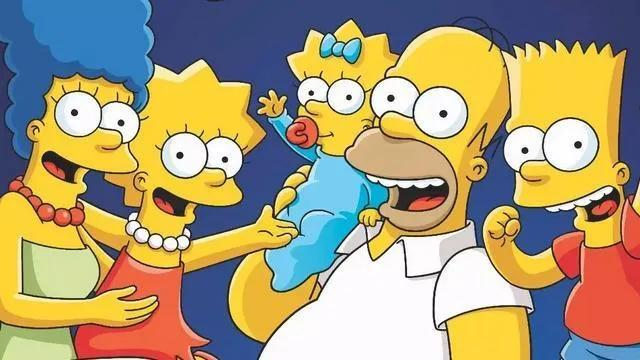Bart: (478, 21, 635, 360)
Homer: (271, 14, 541, 360)
Lisa: (95, 52, 272, 360)
Maggie: (258, 19, 405, 286)
Marge: (0, 0, 157, 360)
